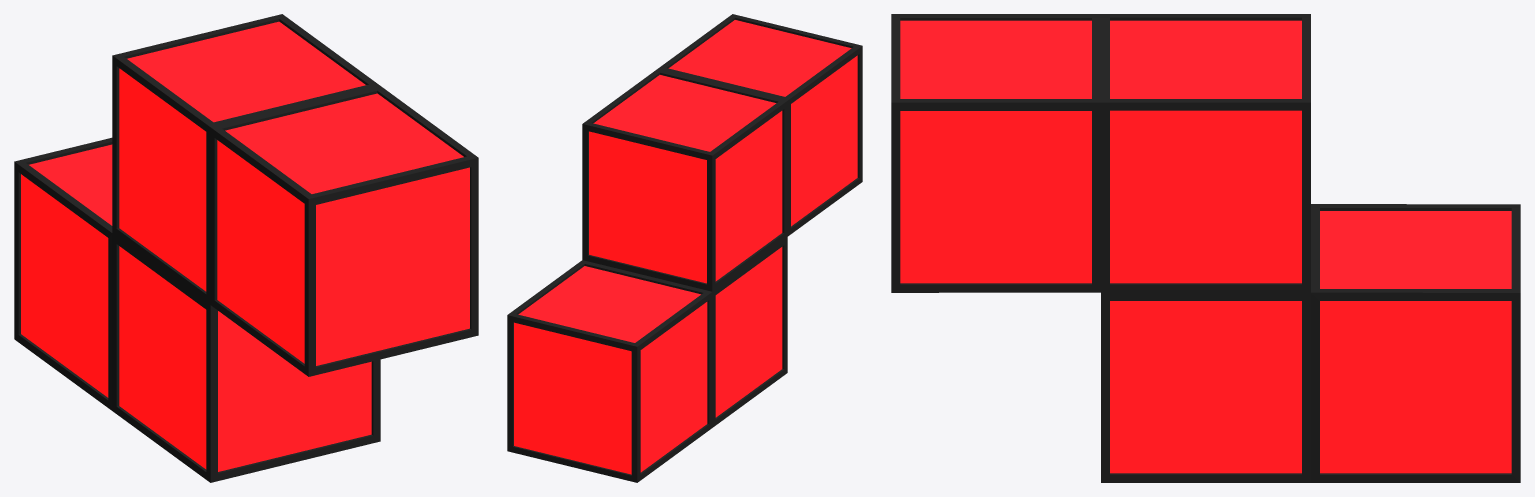
The model's file is cleveland_z.fbx.
3 renders of one model, left to right at view 1: azimuth 30°, elevation 25°; view 2: azimuth 150°, elevation 25°; view 3: azimuth 270°, elevation 25°, orthographic. The views are drawn at different scales.
Visible parts, largest first — view 1: Cleveland Z; view 2: Cleveland Z; view 3: Cleveland Z.
Boxes of the visible parts, box(x1,y1,x2,y2) form: Cleveland Z: box(14, 14, 478, 482); Cleveland Z: box(507, 14, 862, 482); Cleveland Z: box(891, 14, 1520, 482).
Size of the model in its own units: 39.45 by 78.9 by 118.
